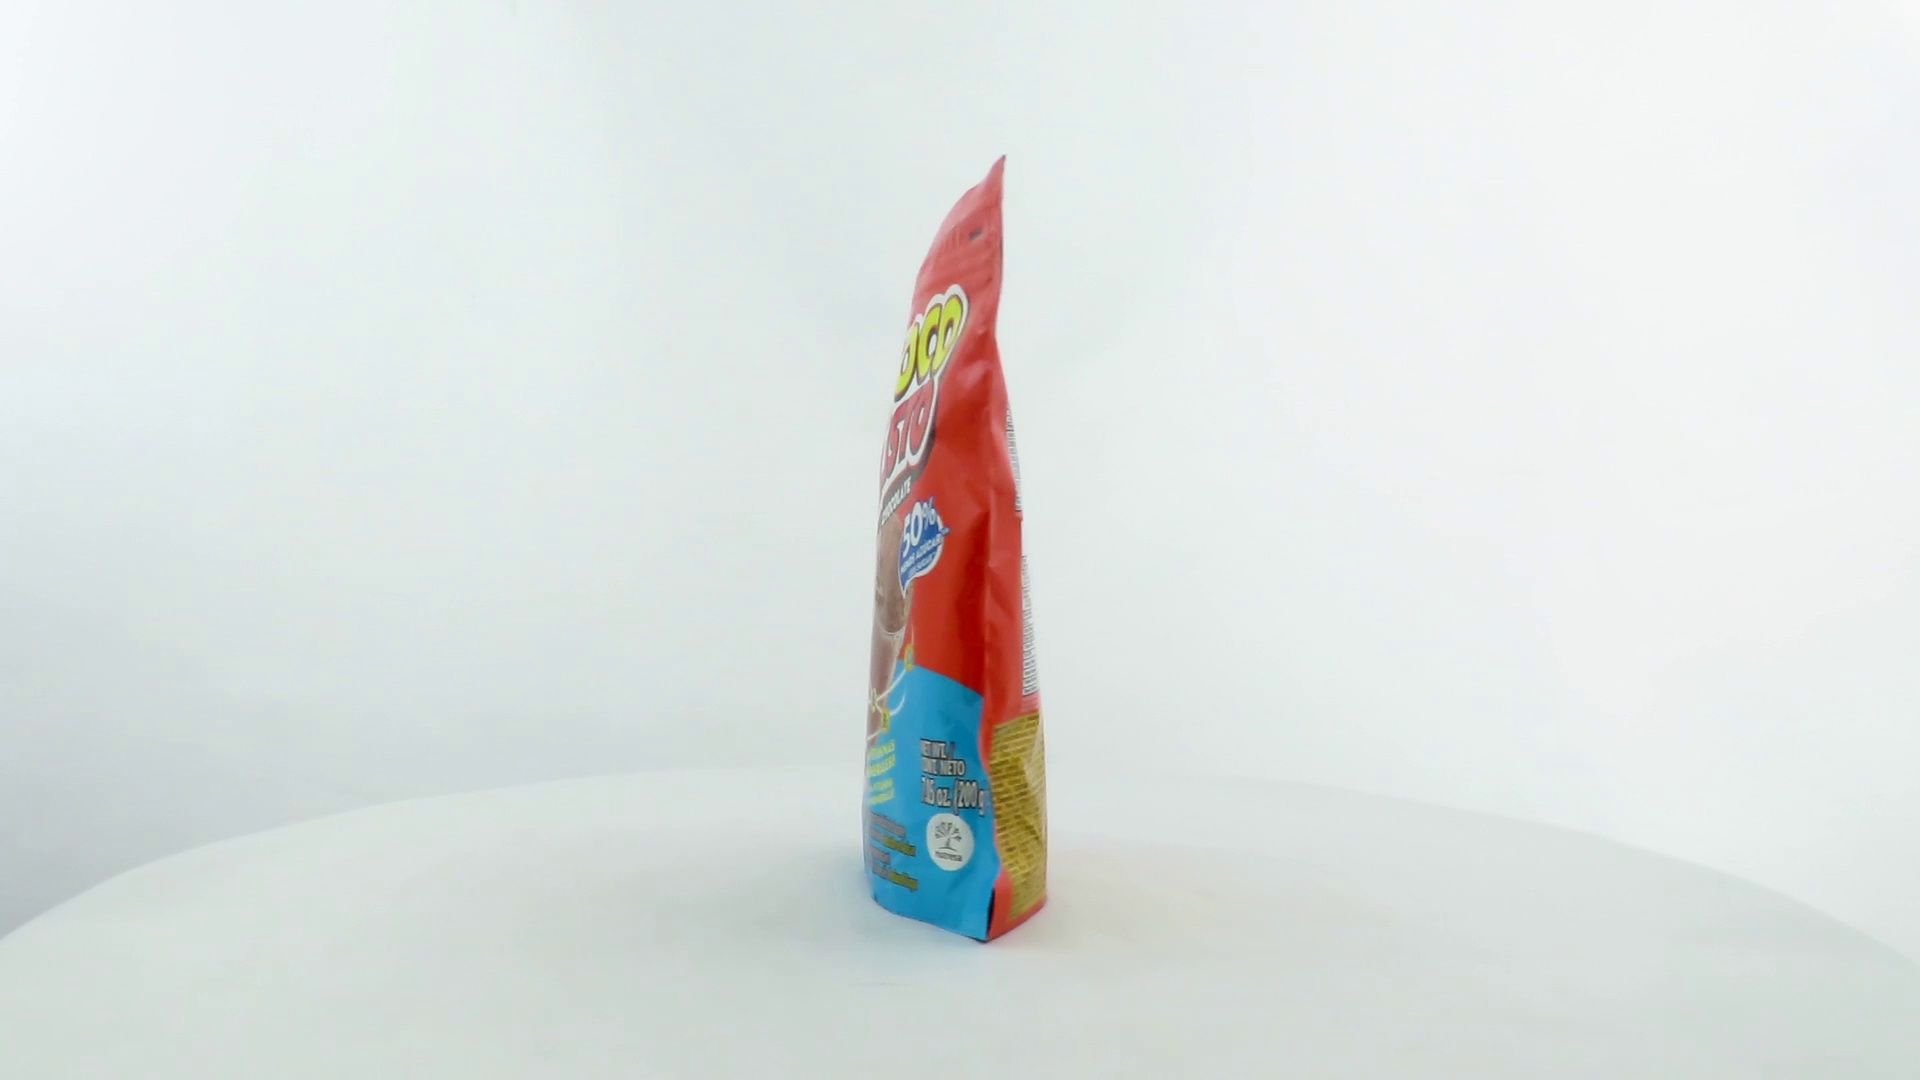COL0170104DYP20000: (856, 150, 1054, 949)
